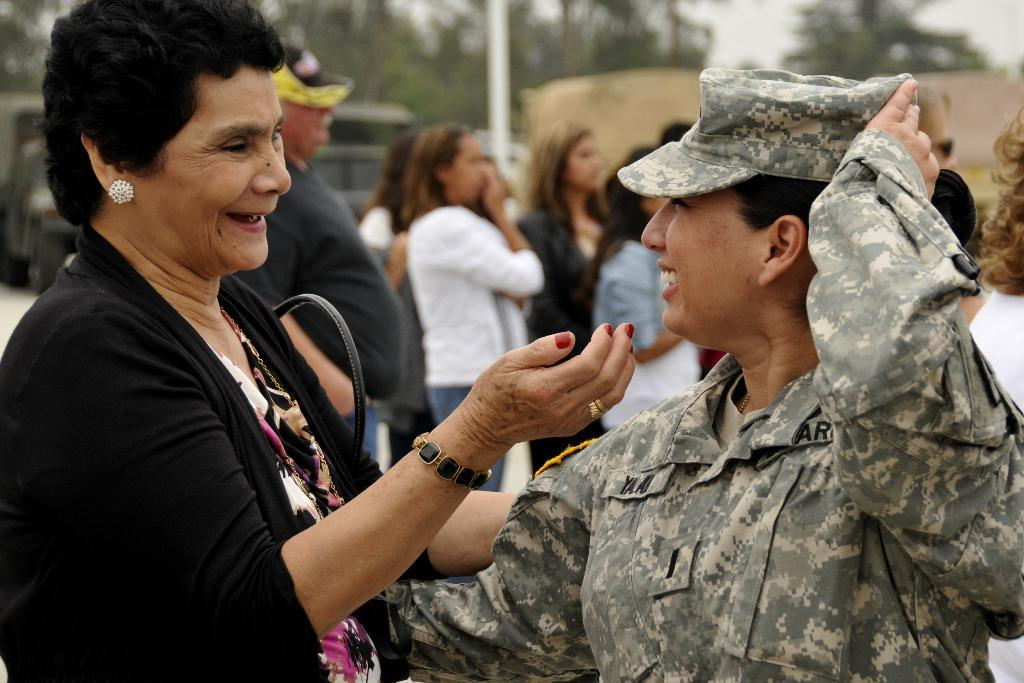Hat: (618, 65, 920, 202), (272, 38, 352, 110)
